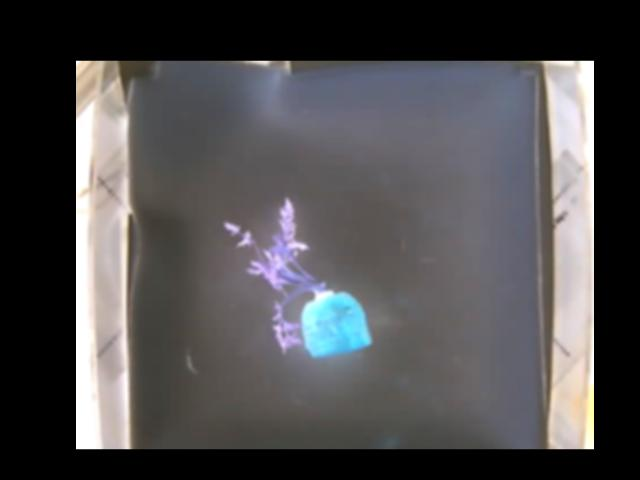Carrot: (224, 196, 370, 357)
